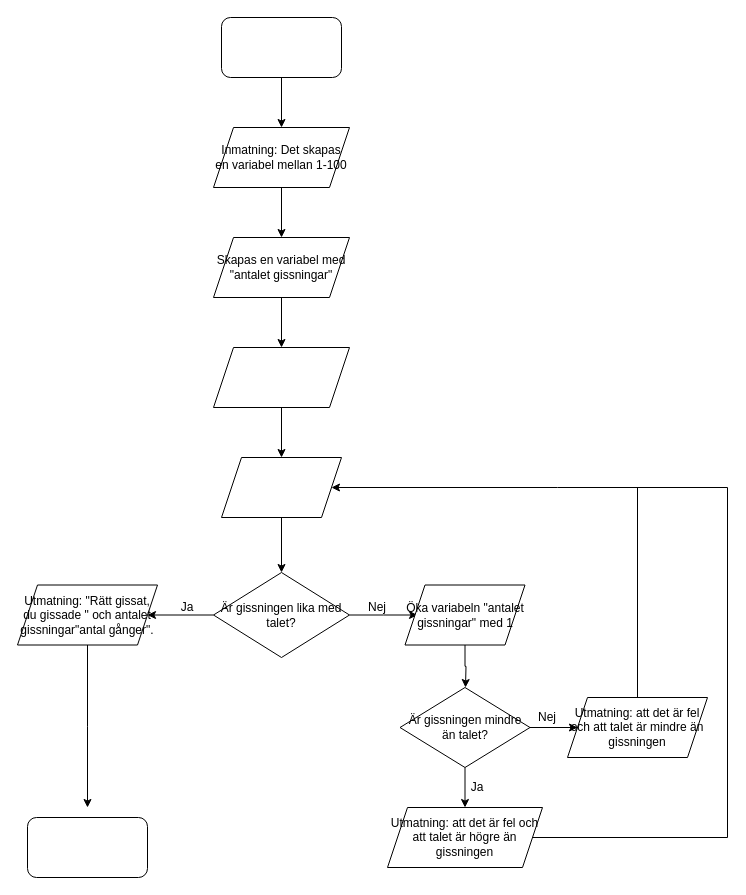
Image size: 746x895. Some labels were removed from this diagram. The centre of each missing label's shape, as x and y in pixels:
Inmatning: Inskrift av ett heltal: (281,487)
Start: (281,47)
Stopp: (87,847)
Utmatning: "Gissa på ett tal mellan 1 och 100": (281,377)
